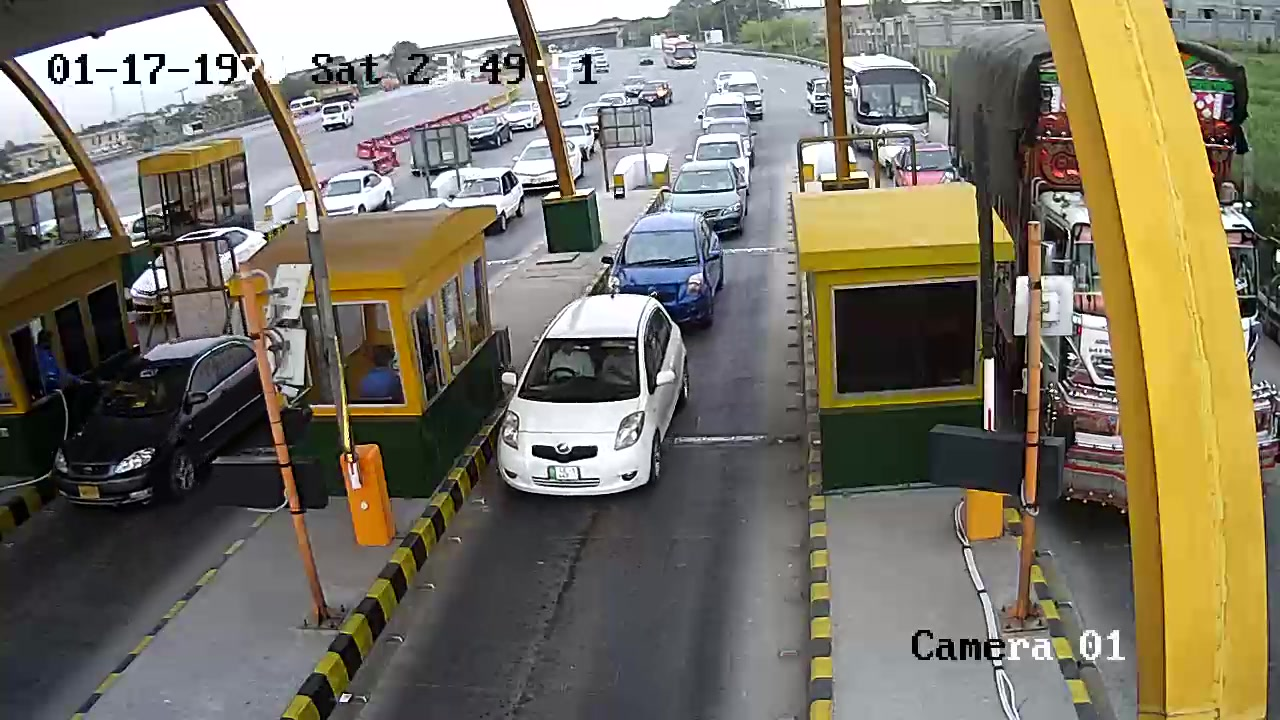F1: (494, 290, 685, 506)
